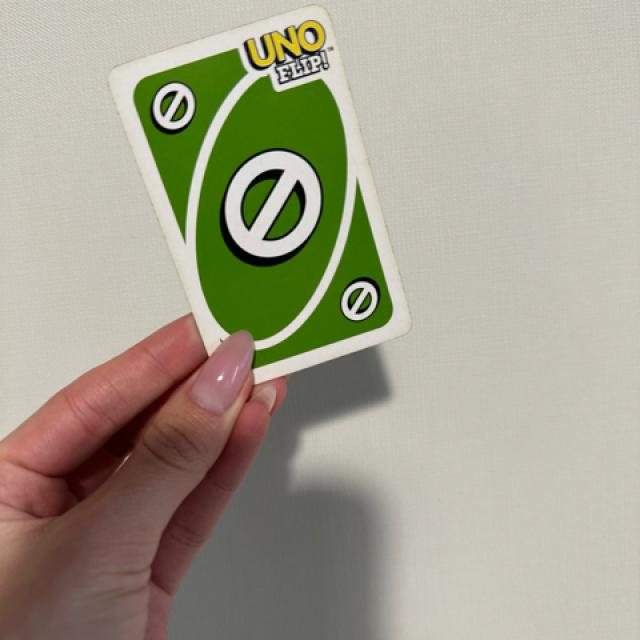lgreenskip-20: (143, 66, 217, 154)
